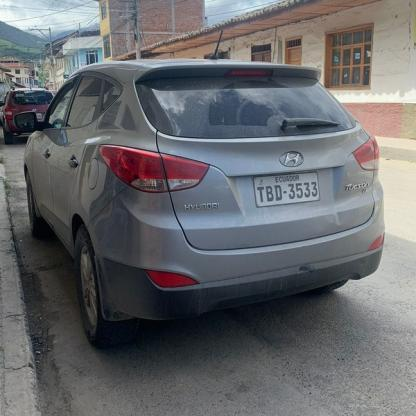Placa: (248, 173, 325, 209)
